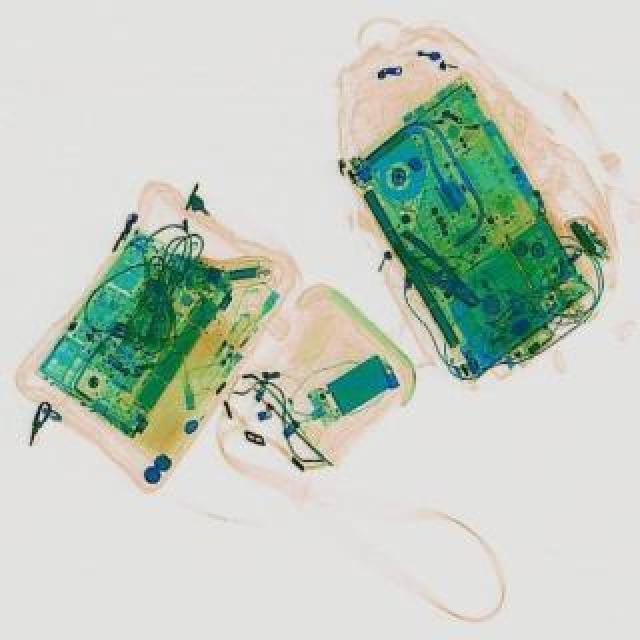wrench: (388, 226, 492, 316)
